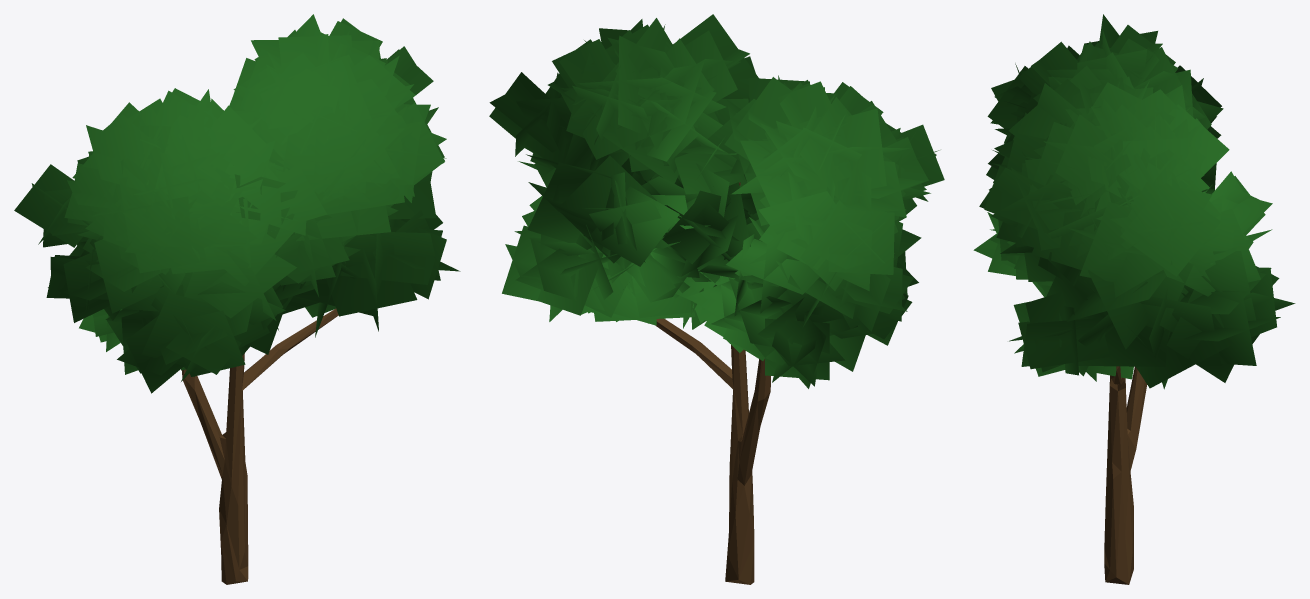
Rendered from SM_tree_02.fbx.
3 renders of one model, left to right at view 1: azimuth 30°, elevation 25°; view 2: azimuth 150°, elevation 25°; view 3: azimuth 270°, elevation 25°, orthographic. The views are drawn at different scales.
Parts seen in each view (by area): view 1: Object32447; view 2: Object32447; view 3: Object32447.
Part boxes in pixels (x1,y1,x2,y2): Object32447: (14,14,460,584); Object32447: (489,14,944,584); Object32447: (973,14,1295,584).
Bounding box in the file's own units: 323 × 407 × 219.
